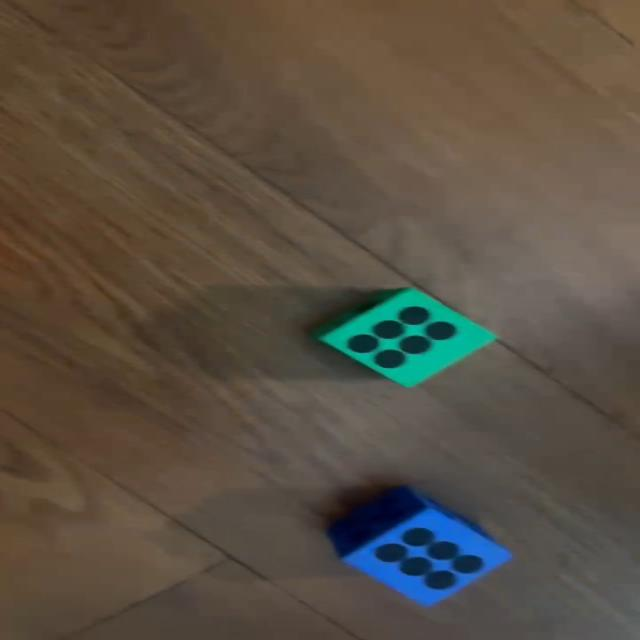blue_block: (324, 486, 512, 609)
